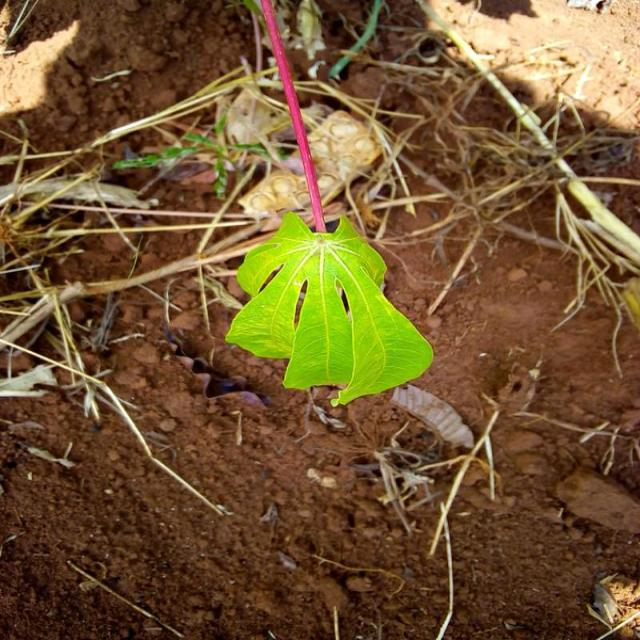cassava leaf: (225, 209, 435, 408)
